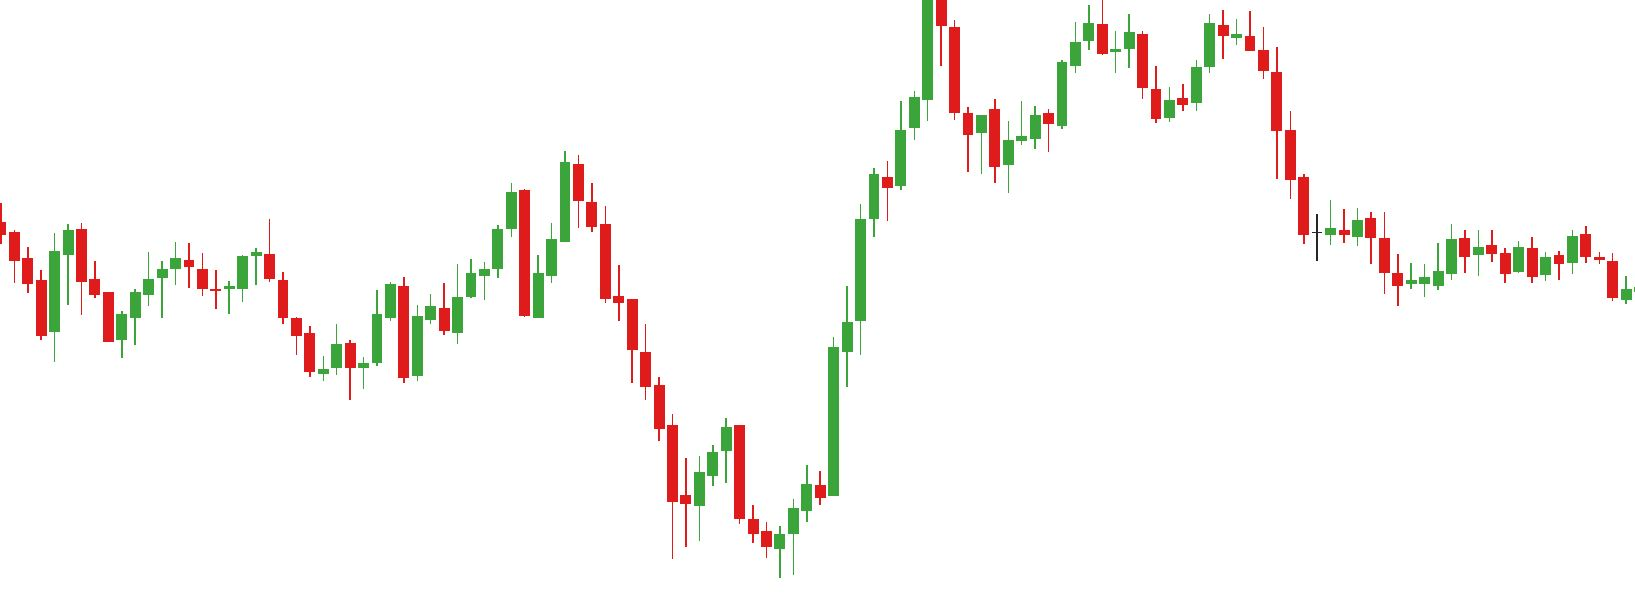buy: (661, 443, 787, 583)
sell: (505, 151, 586, 276)
